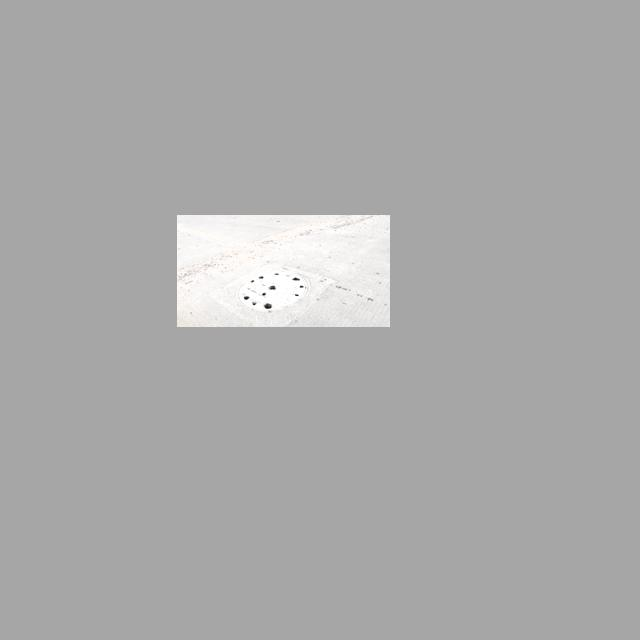broke: (236, 270, 309, 310)
